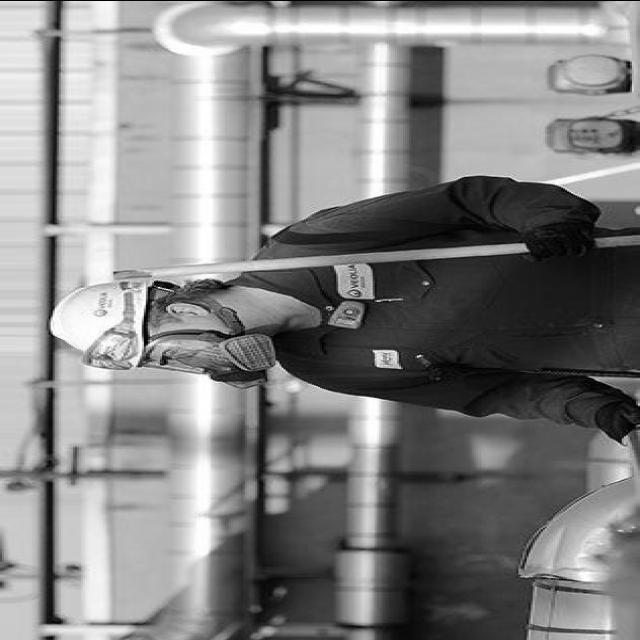safety_helmet: (51, 275, 152, 369)
